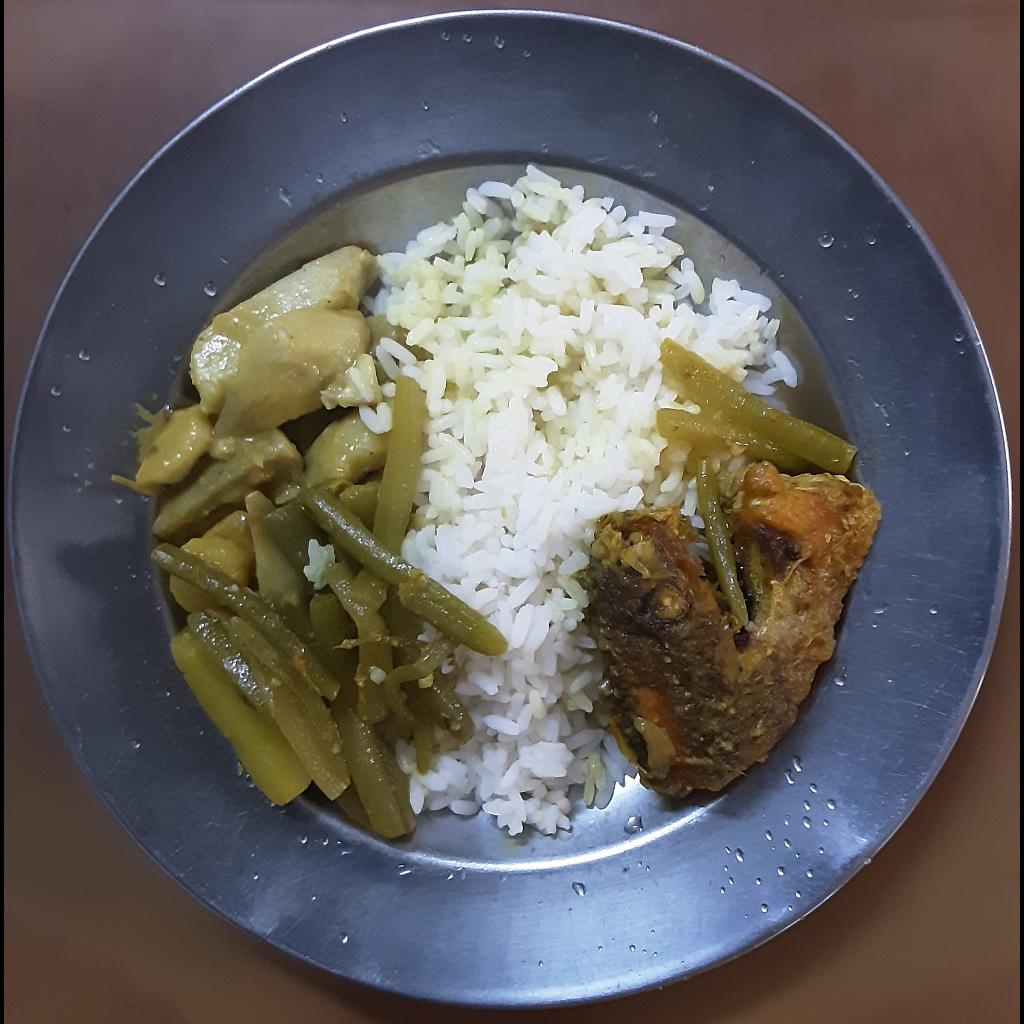dundol: (152, 415, 504, 838), (654, 342, 860, 636)
fish: (576, 463, 882, 799)
kochu: (137, 249, 398, 535)
rice: (370, 168, 801, 845)
